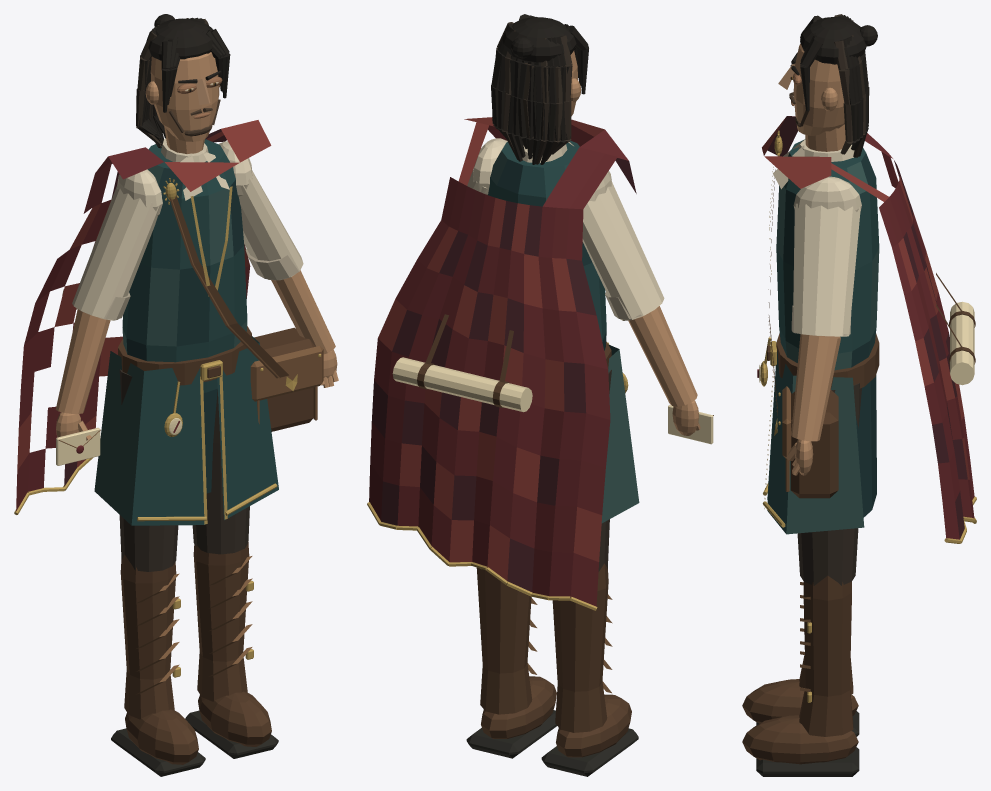
Rendered from human-courier.glb.
3 views of the same model, side by side, from view 1: azimuth 30°, elevation 25°; view 2: azimuth 150°, elevation 25°; view 3: azimuth 270°, elevation 25° (orthographic). The views are drawn at different scales.
Parts seen in each view (by area): view 1: Waistcoat, Split_coat_R, Cloak_folds, Boot_shaft_R, Boot_shaft_L, Split_coat_L, Linen_sleeve_R, Face, Forearm_R, Linen_sleeve_L, Trouser_thigh_L, Boot_toe_R (+15 smaller); view 2: Cloak_folds, Boot_shaft_R, Boot_shaft_L, Linen_sleeve_R, Waistcoat, Split_coat_R, Map_roll, Forearm_R, Boot_toe_R, Boot_toe_L, Hair_crown, Boot_sole_R (+4 smaller); view 3: Cloak_folds, Waistcoat, Linen_sleeve_L, Split_coat_L, Boot_shaft_L, Forearm_L, Boot_toe_L, Trouser_thigh_L, Messenger_satchel, Face, Back_coat, Boot_toe_R (+9 smaller).
Part boxes in pixels (<box>): Waistcoat: <box>122,139,247,392</box>; Split_coat_R: <box>94,351,205,525</box>; Cloak_folds: <box>16,120,271,511</box>; Boot_shaft_R: <box>120,555,176,719</box>; Boot_shaft_L: <box>193,540,249,701</box>; Split_coat_L: <box>217,336,278,520</box>; Linen_sleeve_R: <box>72,184,159,320</box>; Face: <box>150,52,219,141</box>; Forearm_R: <box>55,309,110,413</box>; Linen_sleeve_L: <box>239,171,303,280</box>; Trouser_thigh_L: <box>192,390,249,554</box>; Boot_toe_R: <box>125,709,198,764</box>; Cloak_folds: <box>369,117,636,606</box>; Boot_shaft_R: <box>552,563,608,732</box>; Boot_shaft_L: <box>476,567,532,714</box>; Linen_sleeve_R: <box>582,181,664,320</box>; Waistcoat: <box>488,140,606,350</box>; Split_coat_R: <box>601,344,639,523</box>; Map_roll: <box>392,357,532,412</box>; Forearm_R: <box>628,306,697,406</box>; Boot_toe_R: <box>556,694,631,757</box>; Boot_toe_L: <box>481,676,556,738</box>; Hair_crown: <box>502,17,576,62</box>; Boot_sole_R: <box>541,728,638,776</box>; Cloak_folds: <box>762,116,974,539</box>; Waistcoat: <box>776,139,879,370</box>; Linen_sleeve_L: <box>793,203,860,336</box>; Split_coat_L: <box>767,351,864,534</box>; Boot_shaft_L: <box>799,575,853,736</box>; Forearm_L: <box>791,334,840,441</box>; Boot_toe_L: <box>742,715,858,764</box>; Trouser_thigh_L: <box>797,383,861,585</box>; Messenger_satchel: <box>790,389,838,498</box>; Face: <box>793,43,844,135</box>; Back_coat: <box>856,375,876,517</box>; Boot_toe_R: <box>742,679,858,723</box>.
Size of the model in its own units: 0.7395 by 1.76 by 0.5149.
